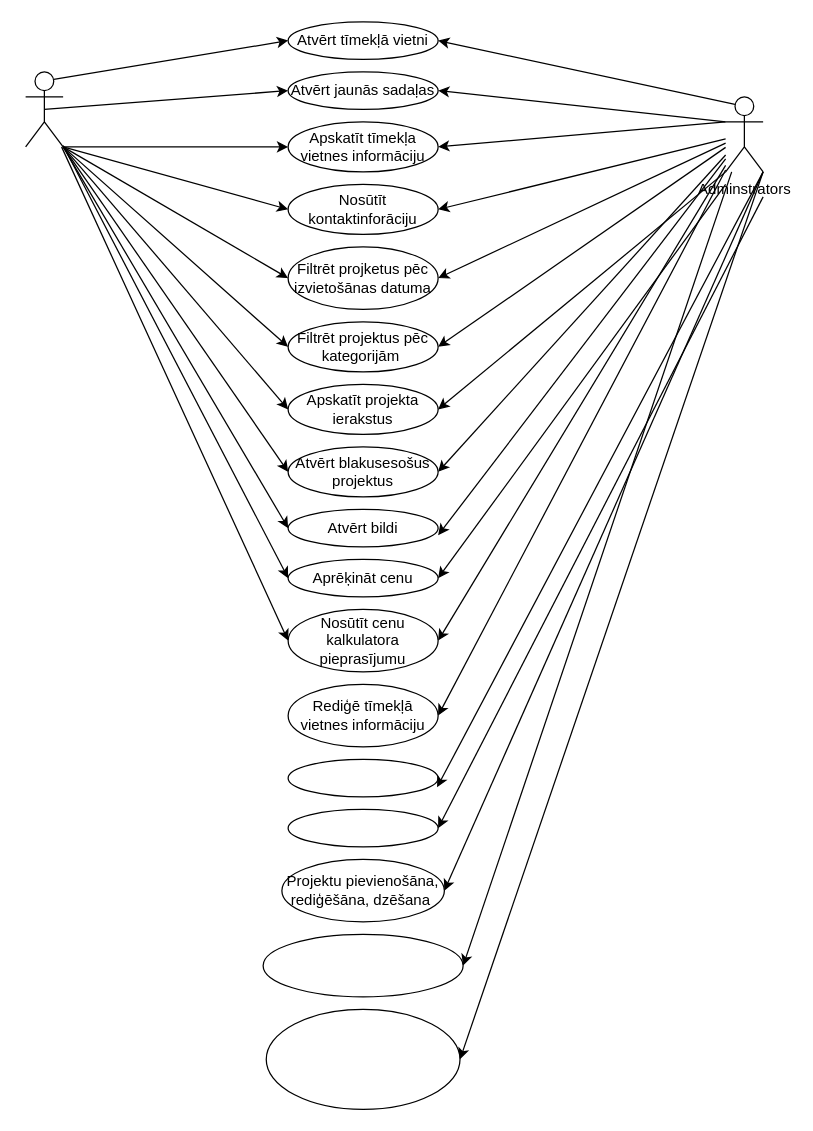
Some shapes in this 813 by 1131 pixel diagram are drawn without their labels. The centre of each missing label's shape, as x and y in pixels:
Ielogošanas sistēmā: [362,777]
Izlogošānas sistēmā: [362,827]
Kategoriju, cenas, opciju, pakalpojumu pievienošana, rediģēšana, dzēšana: [362,1058]
Klients: [43,109]
Projektu kategorijas pievienošana , rediģēsana, dzēšana: [362,965]
